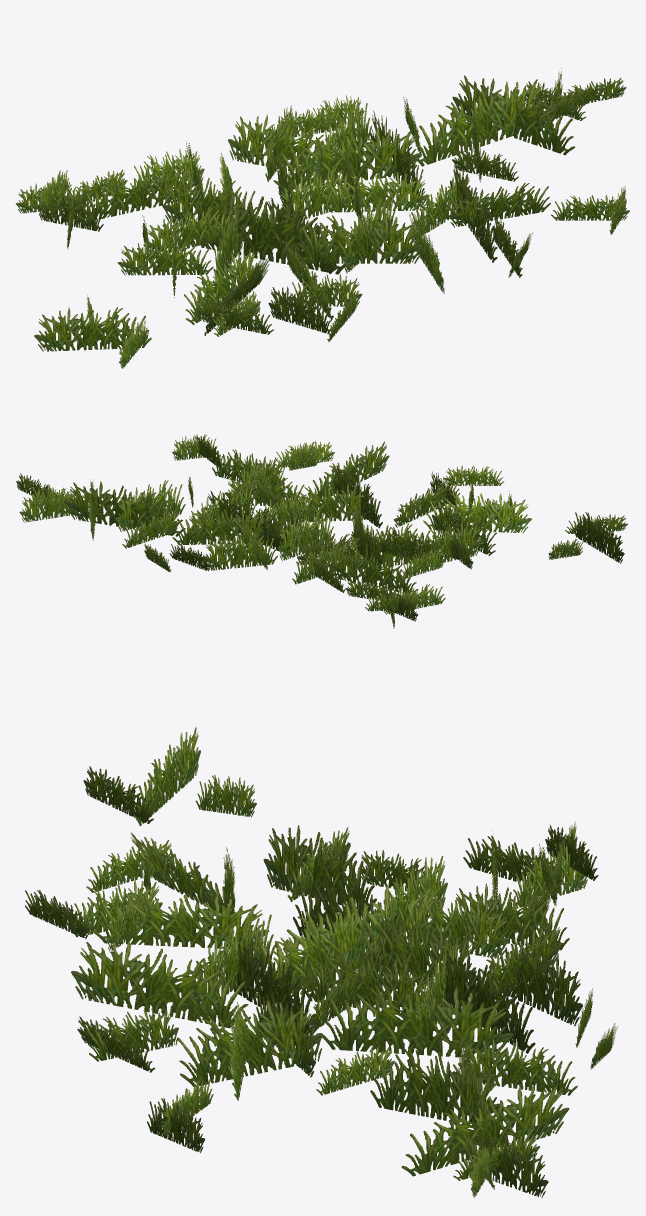
The model's file is DN_grass04c.FBX.
3 views of the same model, one above another, from view 1: azimuth 30°, elevation 25°; view 2: azimuth 150°, elevation 25°; view 3: azimuth 270°, elevation 25° (orthographic). The views are drawn at different scales.
Parts seen in each view (by area): view 1: DN_grass04c; view 2: DN_grass04c; view 3: DN_grass04c.
Part boxes in pixels (x1,y1,x2,y2): DN_grass04c: [15, 68, 629, 368]; DN_grass04c: [16, 434, 627, 628]; DN_grass04c: [25, 727, 617, 1197].
Bounding box in the file's own units: 267 × 46.48 × 157.
